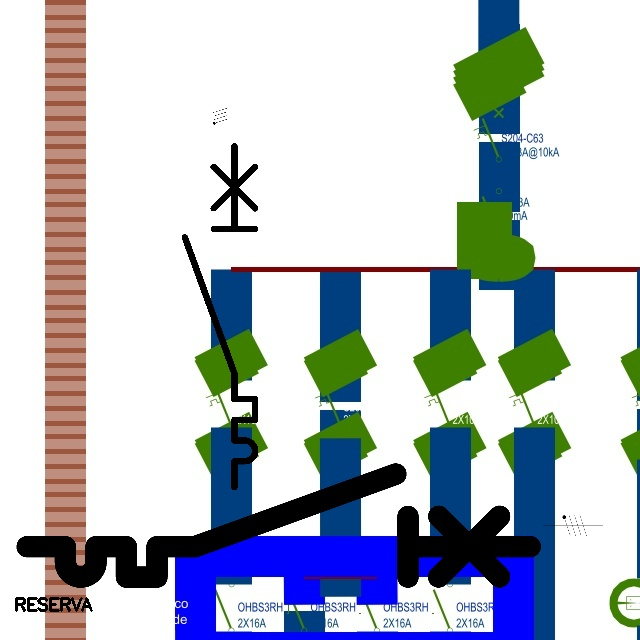interruptor_termomagnetico: (14, 461, 543, 590), (176, 137, 264, 495)
